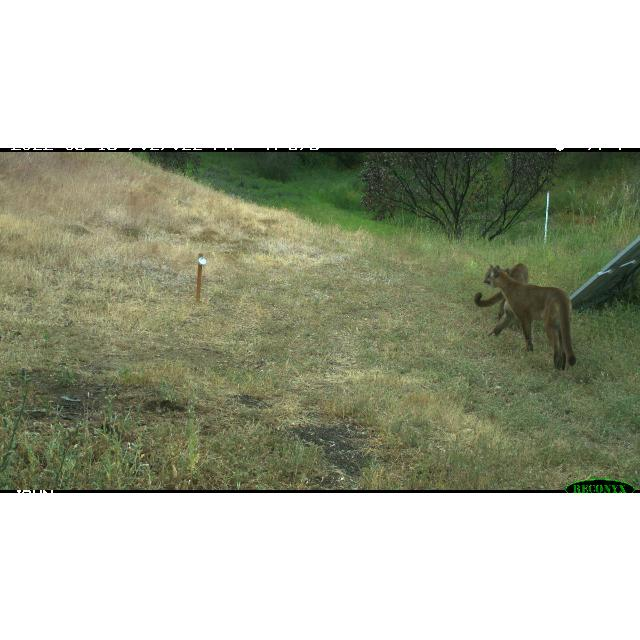animals: (484, 264, 576, 370), (476, 260, 530, 322)
